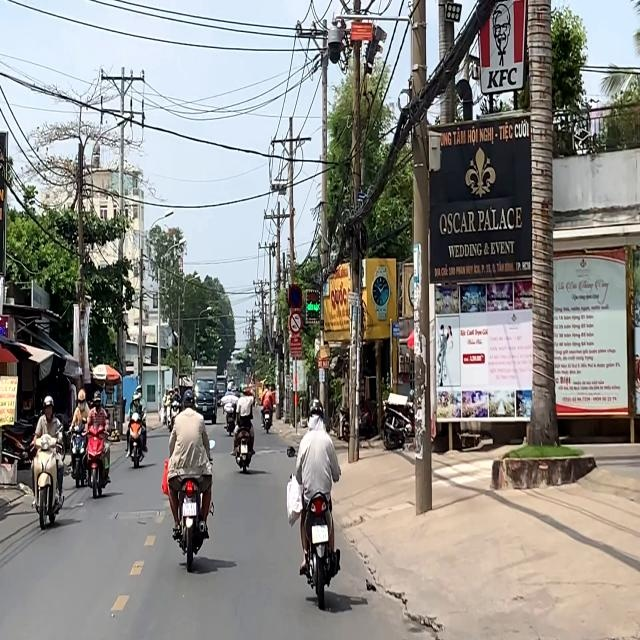bien_cam: (289, 284, 302, 308)
